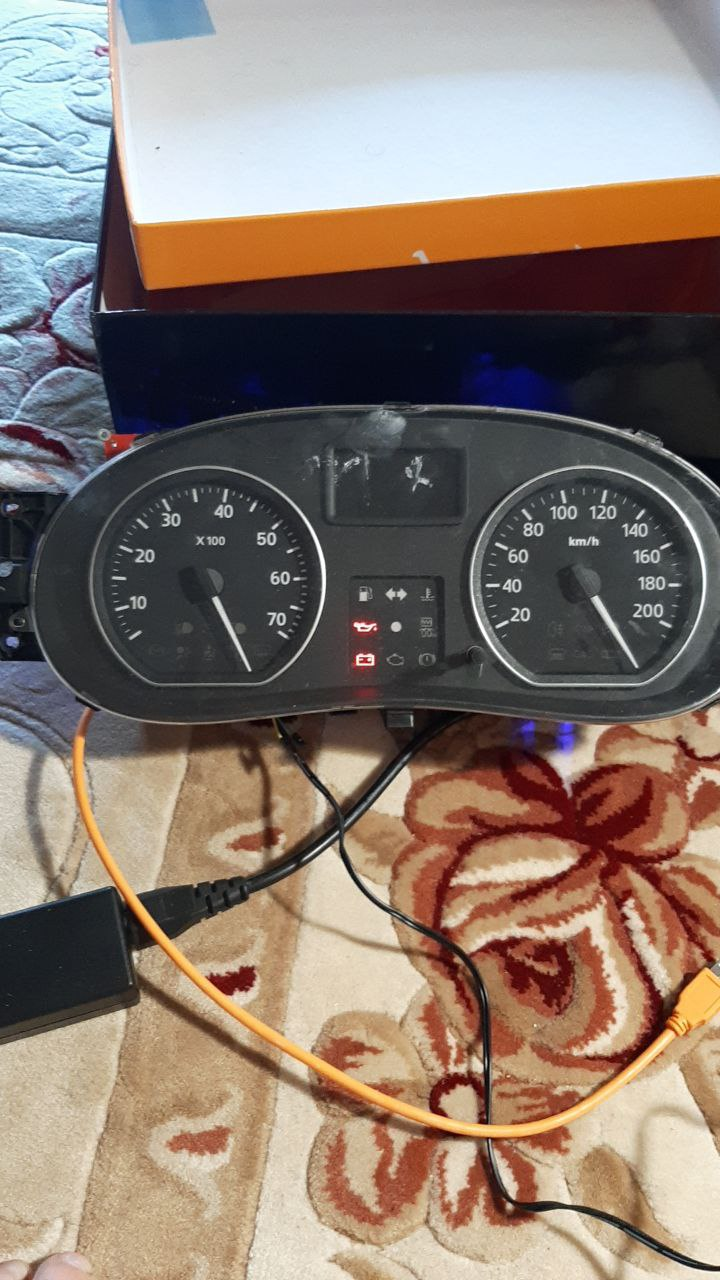oil: (349, 619, 383, 639)
